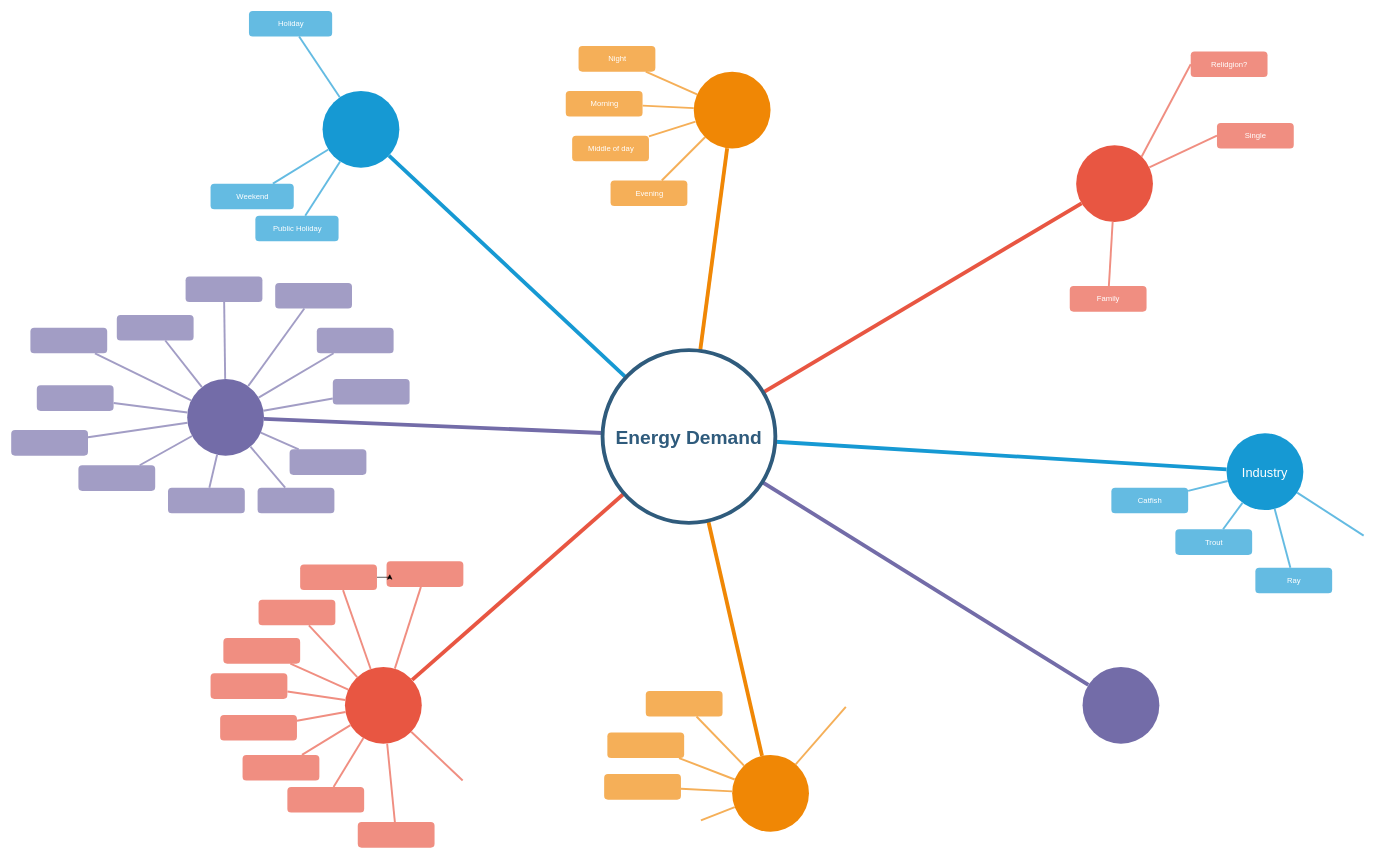
Some shapes in this 1376 by 859 pixel diagram are drawn without their labels. Each missing label, with the centre of its shape:
Activity: the point at 360,129
Environment: the point at 770,793
Govt Regulations: the point at 1120,705
Household: the point at 1114,183
Supply: the point at 383,705
Time of Day: the point at 731,109
Weather: the point at 225,417
